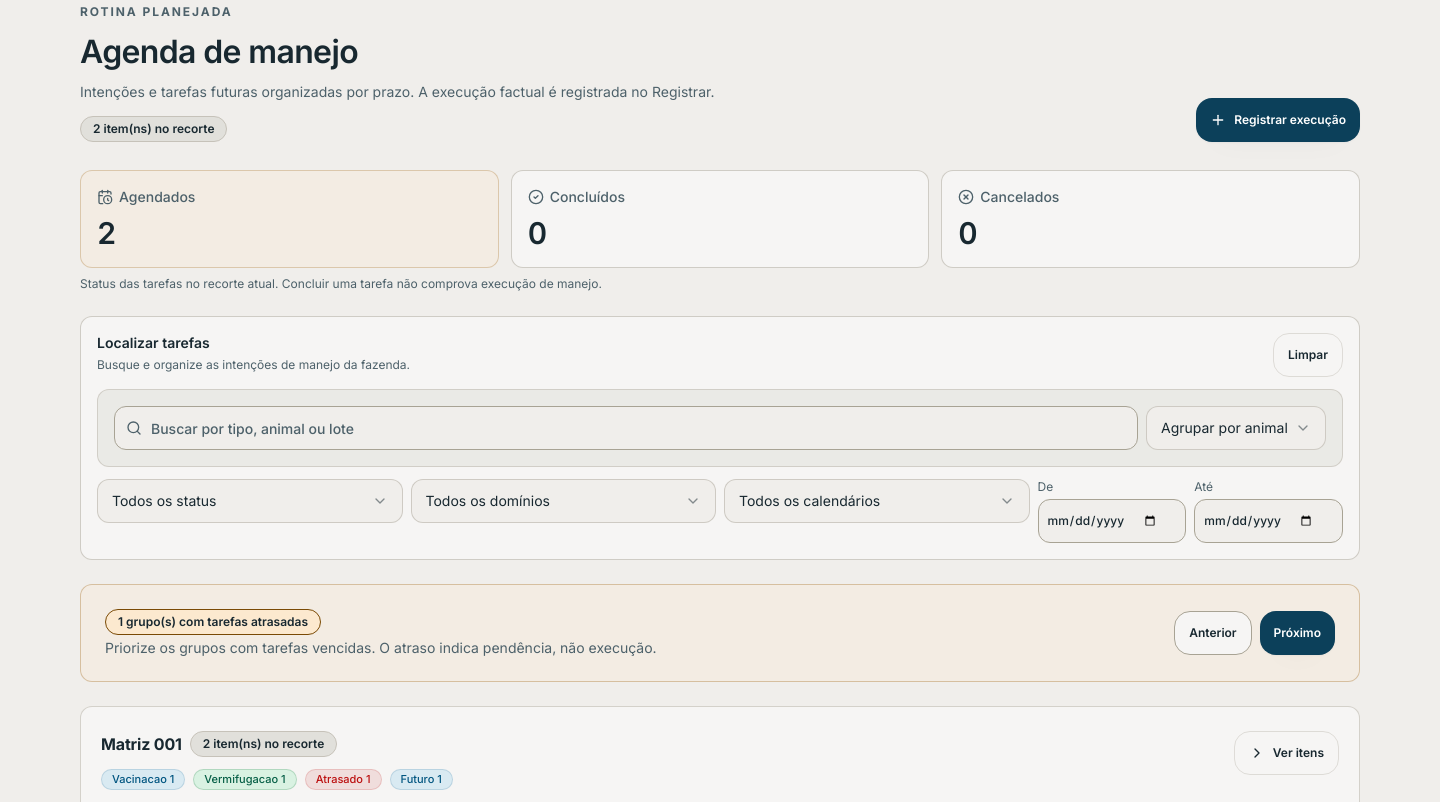
Test case: Agenda page › names future-task grouping as manejo while preserving its persisted value
Click the dropdown named "Agrupar agenda": (1236, 428) left=1146, top=406, right=1326, bottom=450
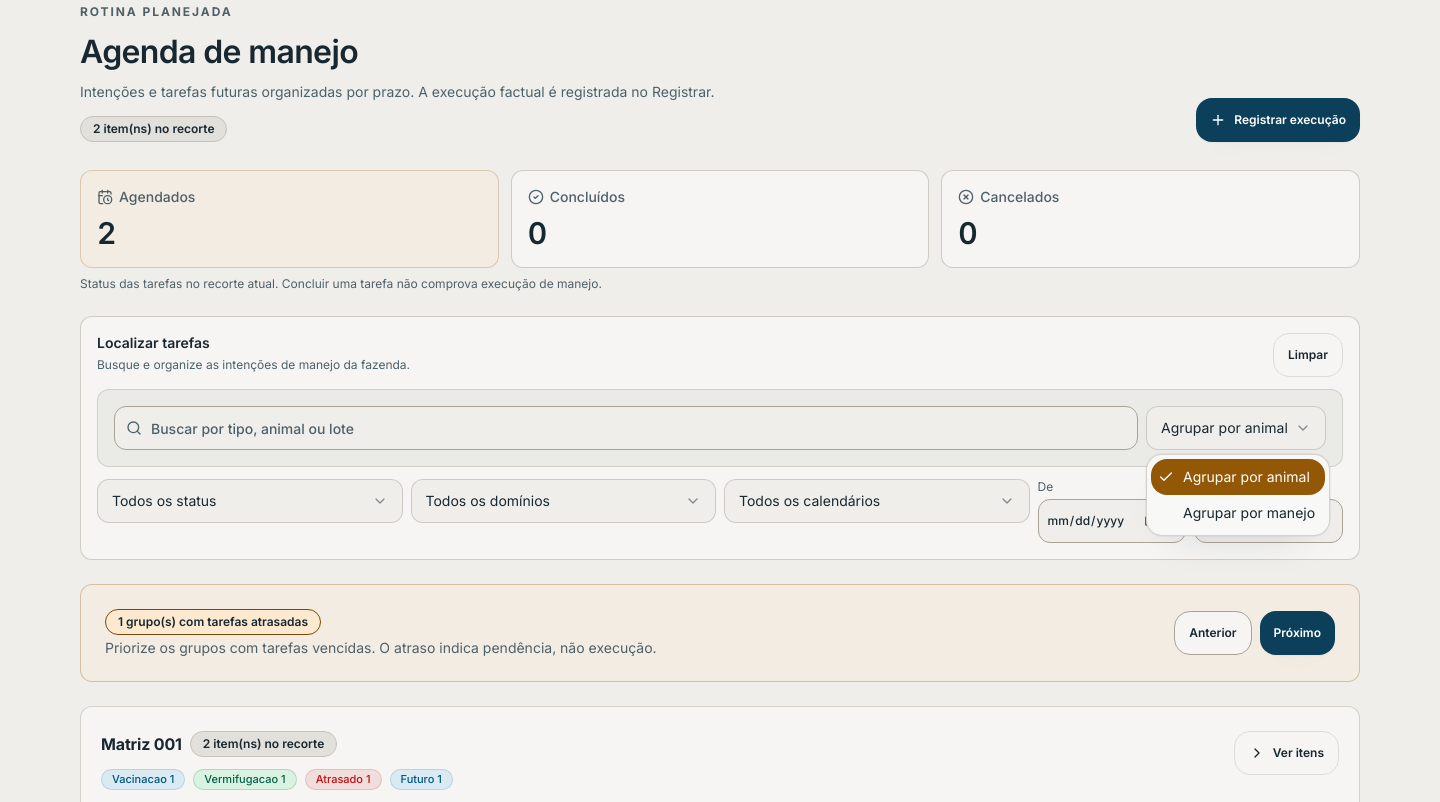
Click the option "Agrupar por manejo": (1249, 512) left=1183, top=504, right=1315, bottom=521
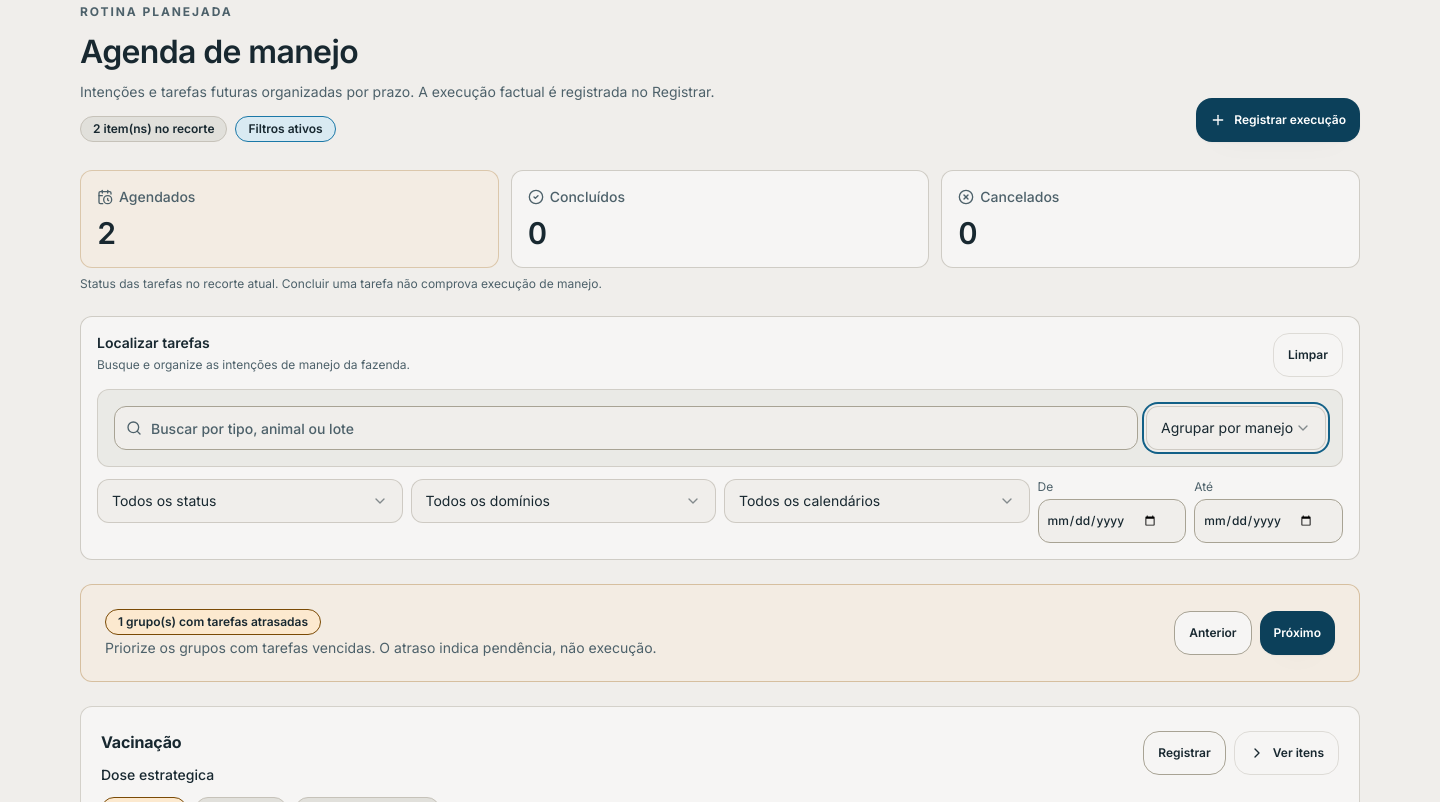
Result: the heading "Vacinação" is shown at left=101, top=732, right=182, bottom=752
Click the dropdown named "Agrupar agenda": (1236, 428) left=1146, top=406, right=1326, bottom=450
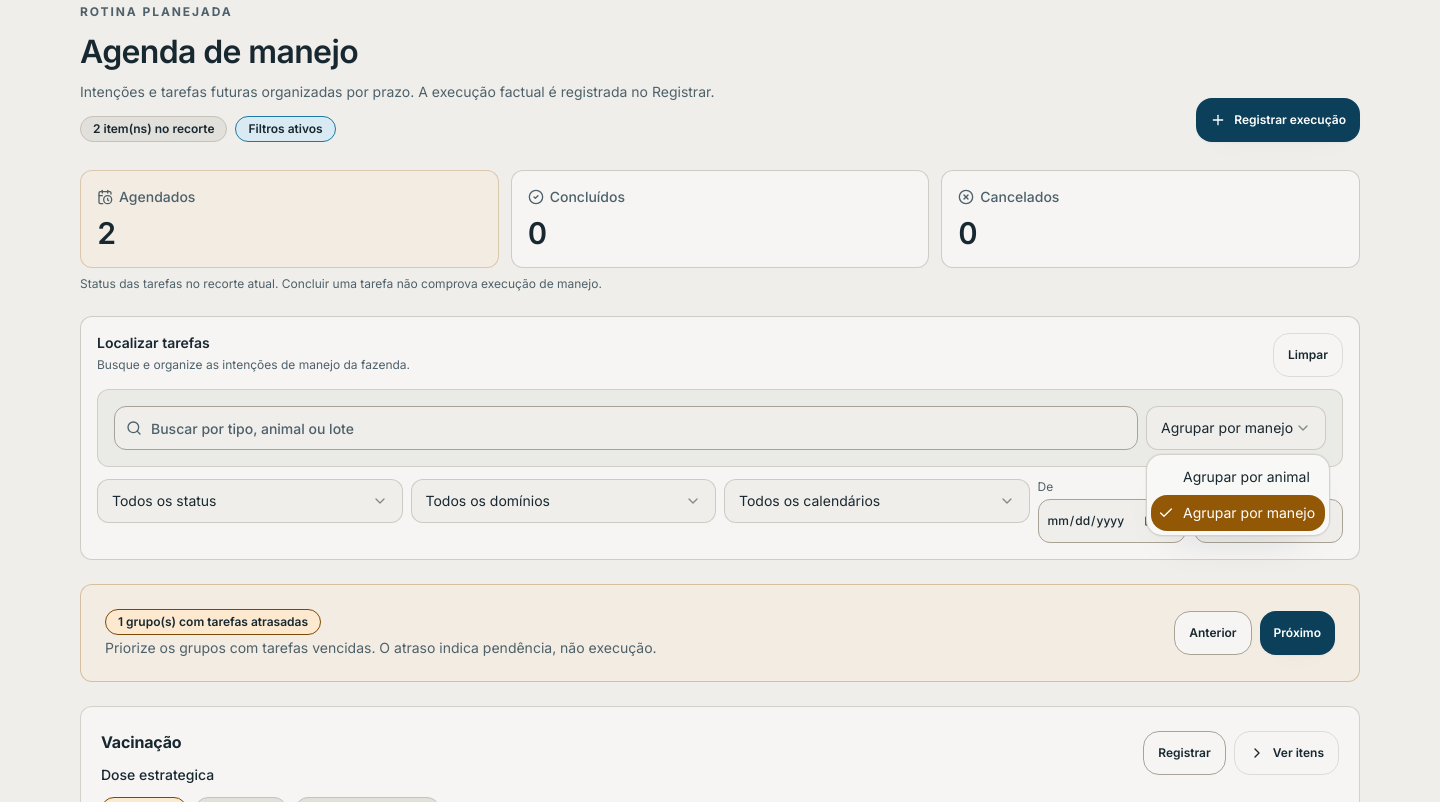
Click the option "Agrupar por animal": (1246, 476) left=1183, top=468, right=1310, bottom=485
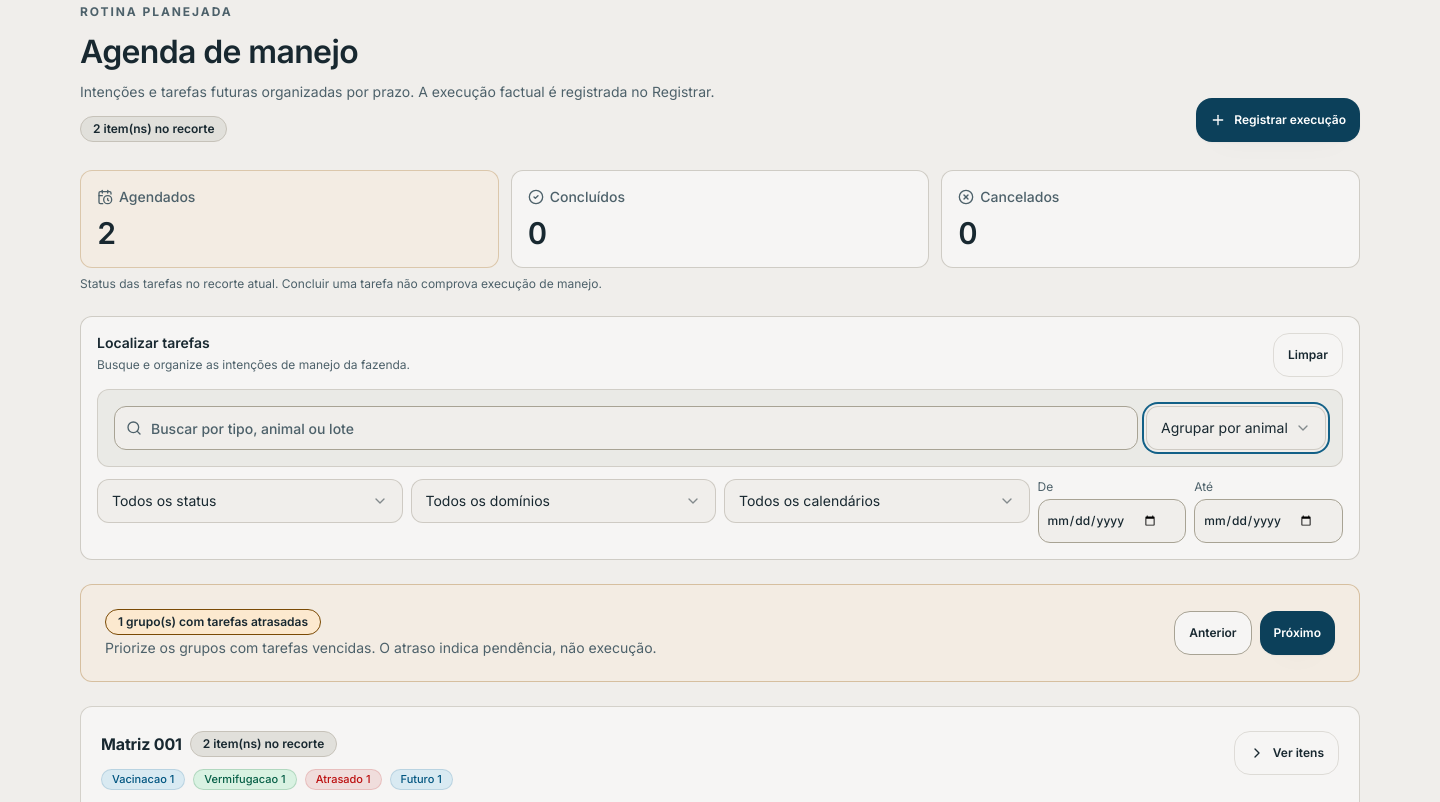
Result: the heading "Vacinação" is gone
